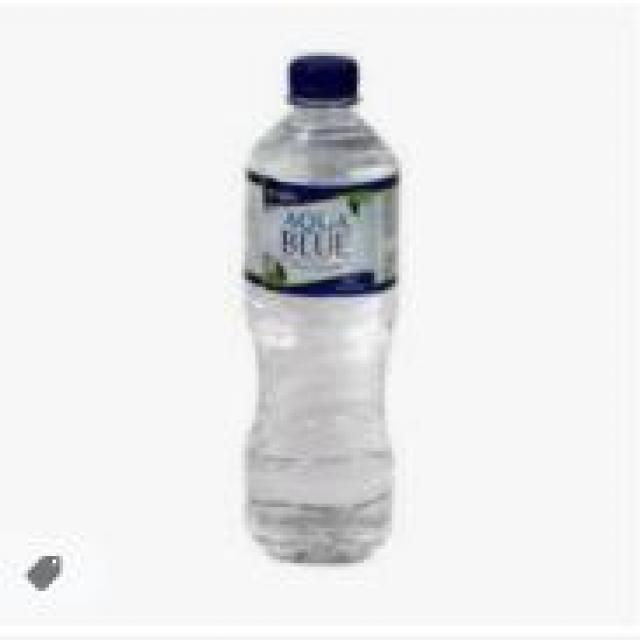bottle: (207, 32, 416, 587)
